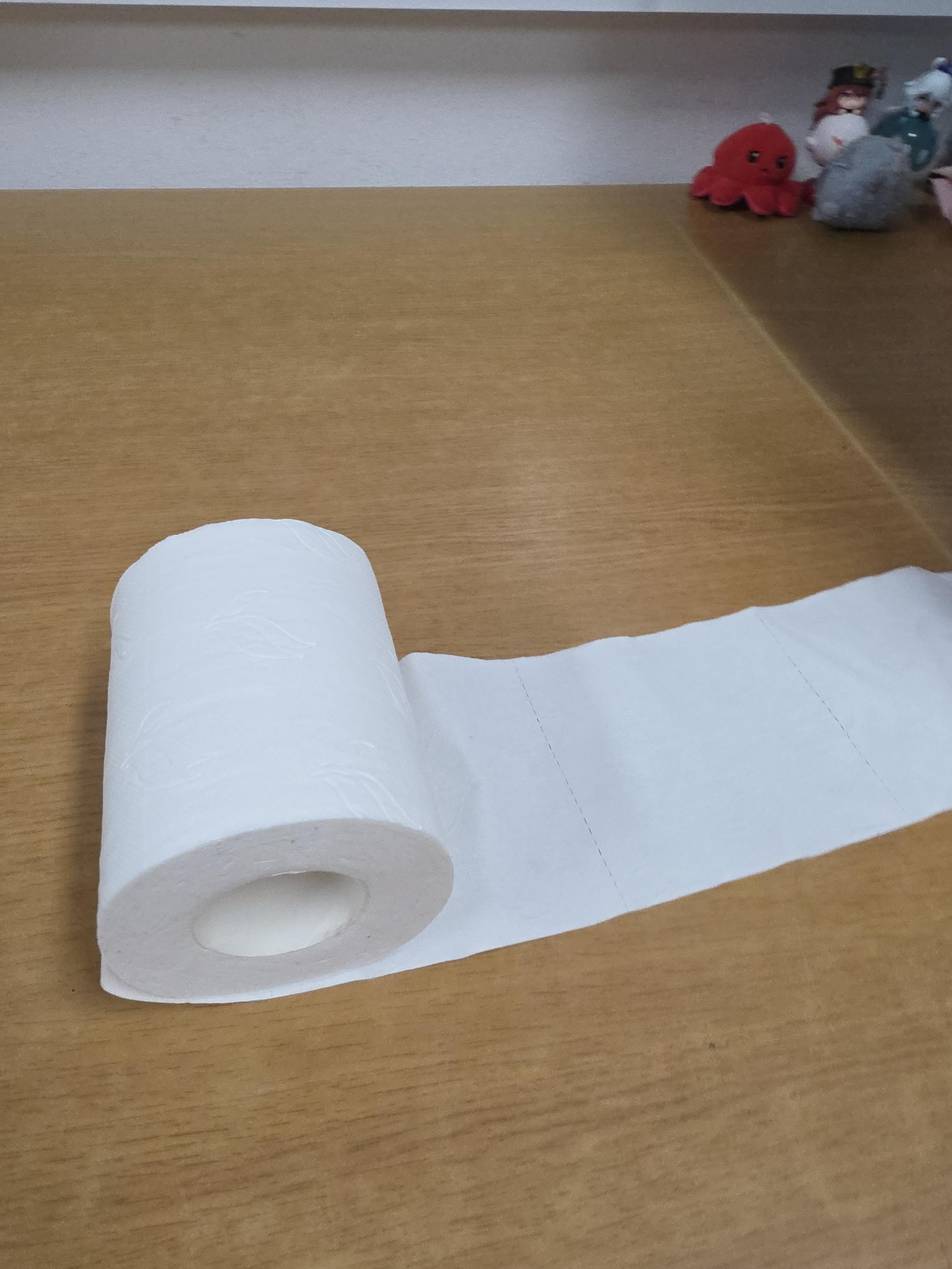tissue: (96, 518, 951, 1004)
